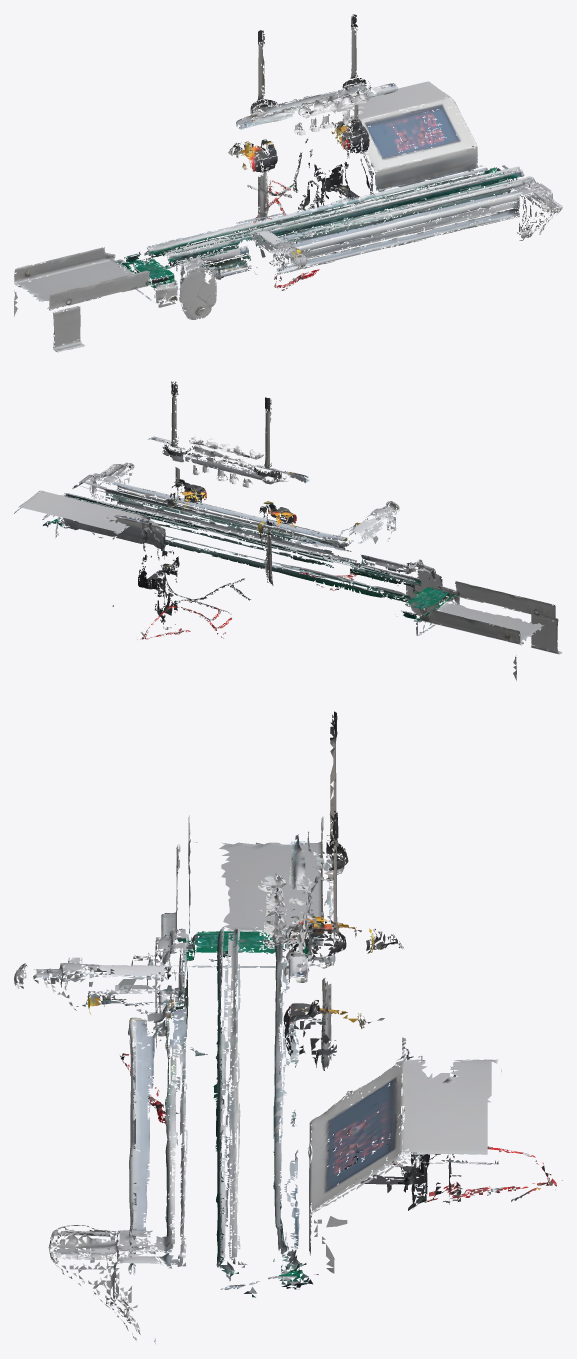
File: drumsense.glb
3 renders of one model, top to bottom at view 1: azimuth 30°, elevation 25°; view 2: azimuth 150°, elevation 25°; view 3: azimuth 270°, elevation 25°, orthographic. The views are drawn at different scales.
Visible parts, largest first — view 1: conveyor, control, filler, collector; view 2: conveyor, filler, collector, control; view 3: conveyor, control, filler, collector.
Part boxes in pixels (x1,y1,x2,y2): conveyor: (117,165,562,319); control: (328,81,482,191); filler: (228,14,380,229); collector: (14,247,155,352); conveyor: (42,462,459,622); filler: (112,381,314,639); collector: (416,581,561,680); control: (14,436,170,548); conveyor: (14,927,323,1343); control: (284,959,498,1273); filler: (258,711,562,1210); collector: (161,815,329,967).
Size of the model in its own units: 2 by 0.9001 by 1.04.
Materials: 1 (1 with a texture image).
